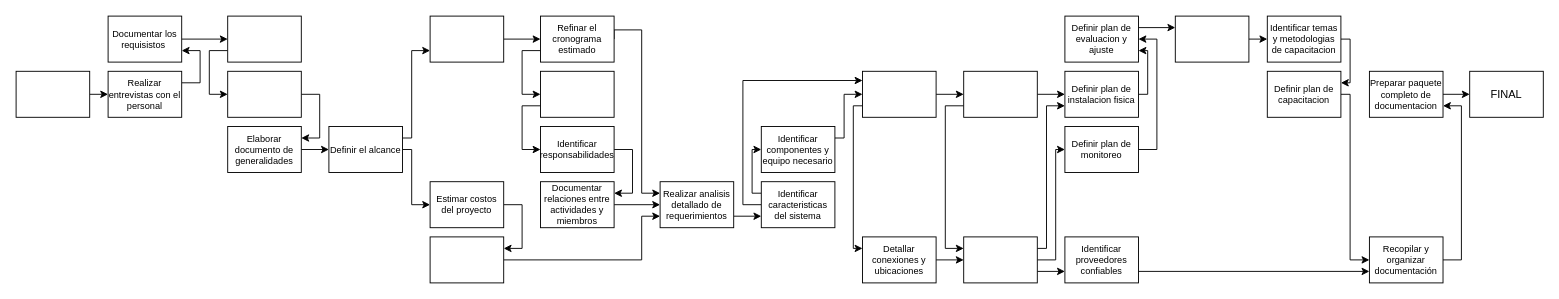
This 1559x299 diagram has some shape labels left out. The shapes that lost their labels are listed below. From the top down, each one's box as (x1, y1, x2, y2) in pixels, then its label:
(227, 15, 301, 62): Realizar analisis detallado de los requisitos
(429, 15, 504, 62): Elaborar cronograma estimado
(1174, 15, 1249, 62): Elaborar plan de utilizacion basica del sistema
(15, 70, 90, 117): INICIO
(227, 70, 301, 117): Establecer objetivos
(540, 70, 614, 117): Establecer dependencias entre tareas
(862, 70, 936, 117): Crear planos y diagramas tecnicos
(963, 70, 1037, 117): Incluir especificaciones tecnicas
(429, 236, 504, 283): Elaborar presupuesto
(963, 236, 1037, 283): Establecer criterios de calidad y rendimiento
